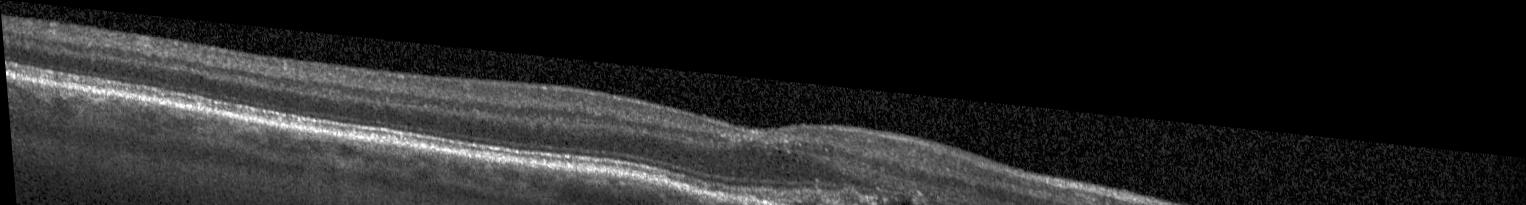neuroepithelium_detachment: (882, 178, 942, 196), (958, 194, 993, 205)
subretinal_hyperreflective_material: (801, 185, 957, 205)
